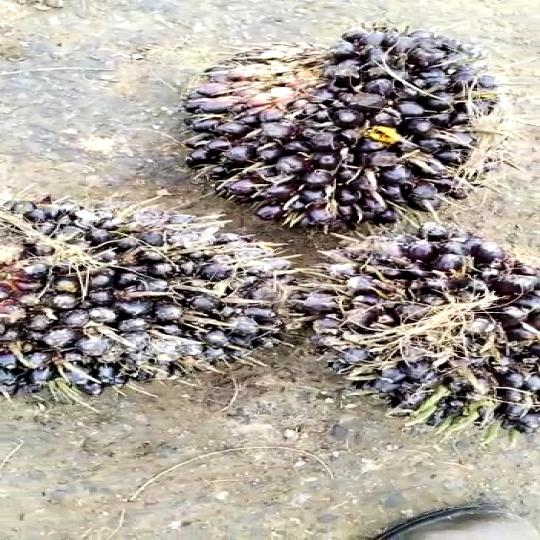mentah: (173, 14, 540, 222), (0, 175, 301, 390), (268, 228, 540, 437)
